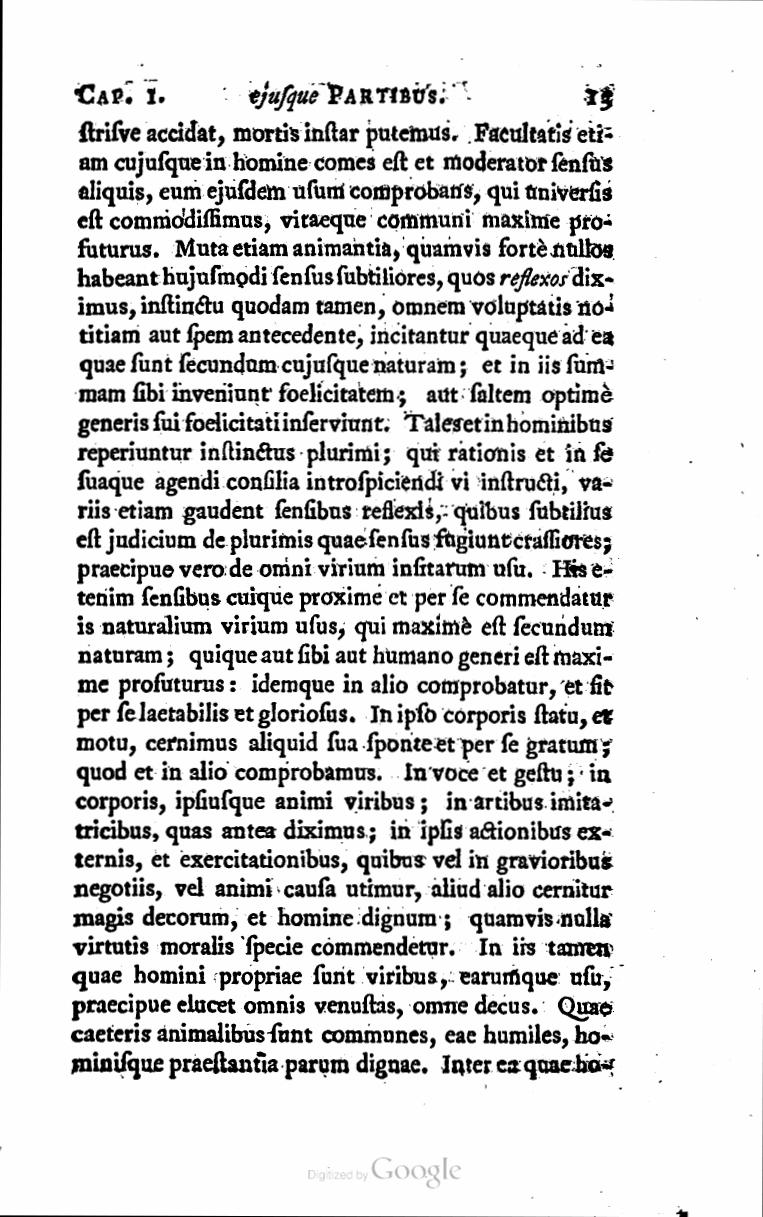header: (75, 81, 450, 114)
page_num: (584, 85, 617, 112)
top_p: (69, 118, 616, 1082)
